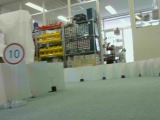speed_10: (1, 41, 27, 68)
